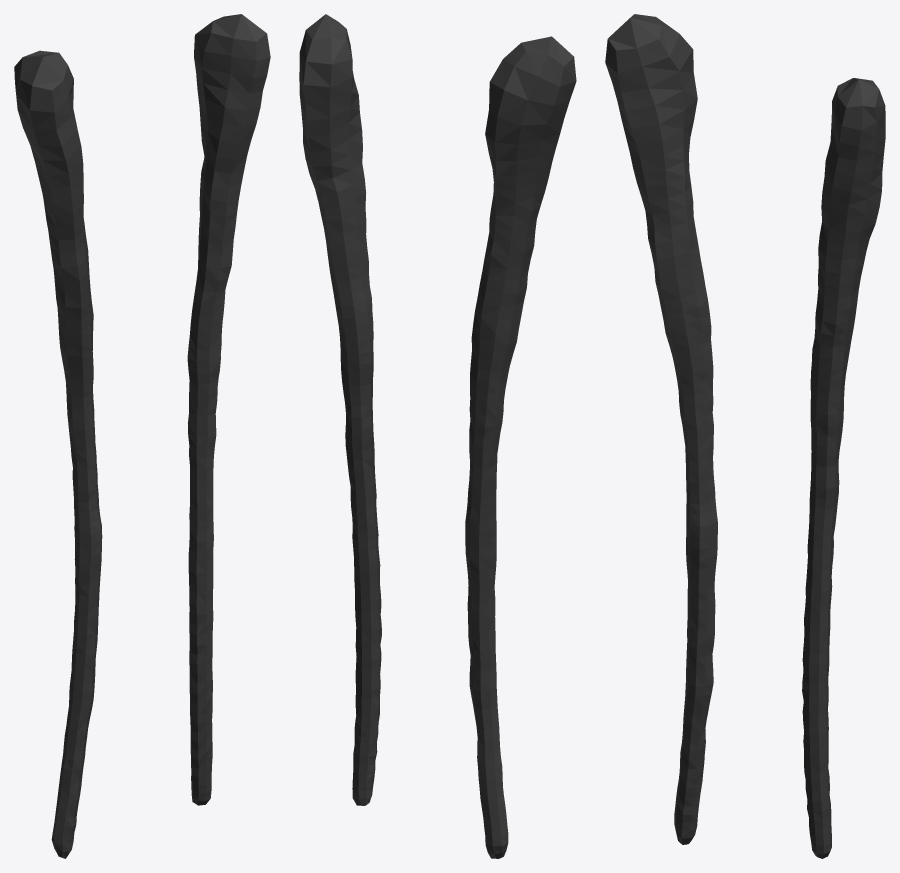
The model's file is LFL_splints.glb.
The picture shows the model from 3 angles, left to right: view 1: azimuth 30°, elevation 25°; view 2: azimuth 150°, elevation 25°; view 3: azimuth 330°, elevation 25°; orthographic projection.
Visible parts, largest first — view 1: LFL_splints; view 2: LFL_splints; view 3: LFL_splints.
Part boxes in pixels (<box>): LFL_splints: <box>14,14,270,858</box>; LFL_splints: <box>299,14,576,858</box>; LFL_splints: <box>605,14,885,858</box>.
Bounding box in the file's own units: 13.6 × 42.62 × 5.01.
Materials: 1 (1 with a texture image).
